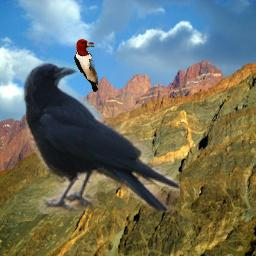Crow: (21, 56, 180, 218)
Woodpecker: (74, 39, 98, 92)
